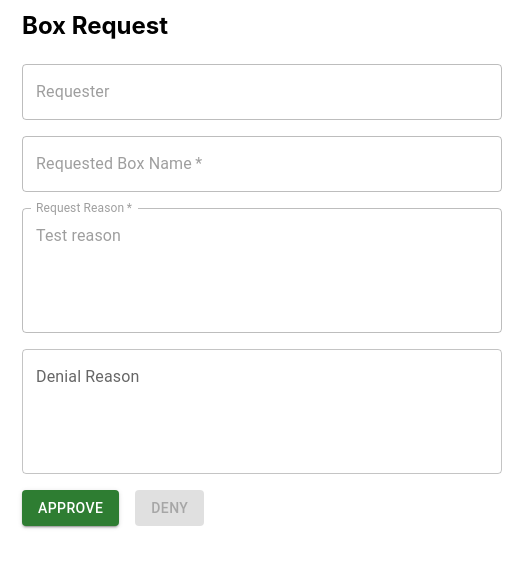
Scenario: BoxRequestForm › shows error when approving without requested name
Step 1. Click the button "Approve" → (71, 508), box [22,490,119,526]
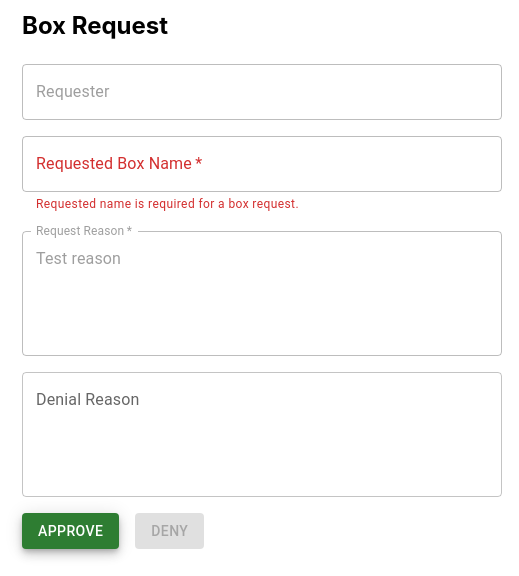
Expected: the text "Requested name is required for a box request." is shown, [36,197,299,211]
